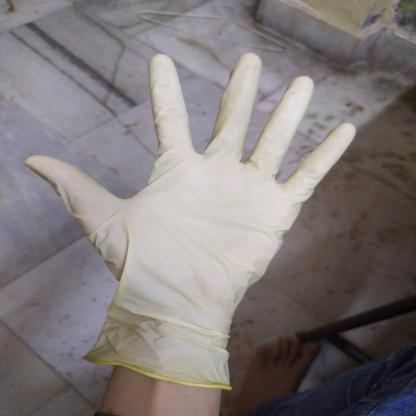gloved_hand: (22, 46, 357, 395)
